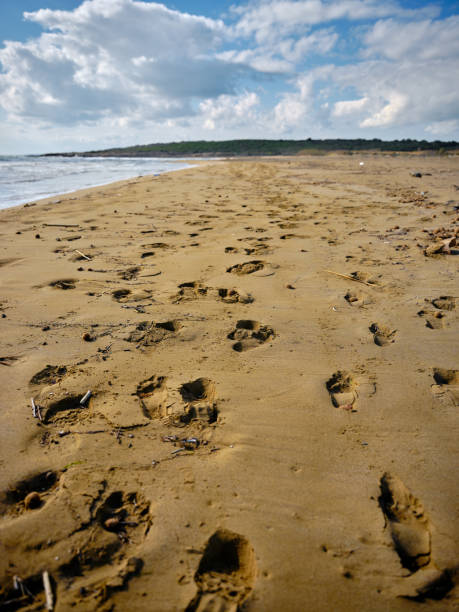human_footprint: (379, 472, 453, 600), (92, 487, 154, 580), (185, 529, 255, 611), (23, 374, 112, 422), (5, 472, 67, 512), (134, 377, 174, 425), (318, 370, 366, 408), (220, 258, 267, 290), (112, 280, 159, 312), (228, 320, 274, 351), (432, 368, 458, 405), (340, 288, 370, 315), (369, 323, 395, 346)
